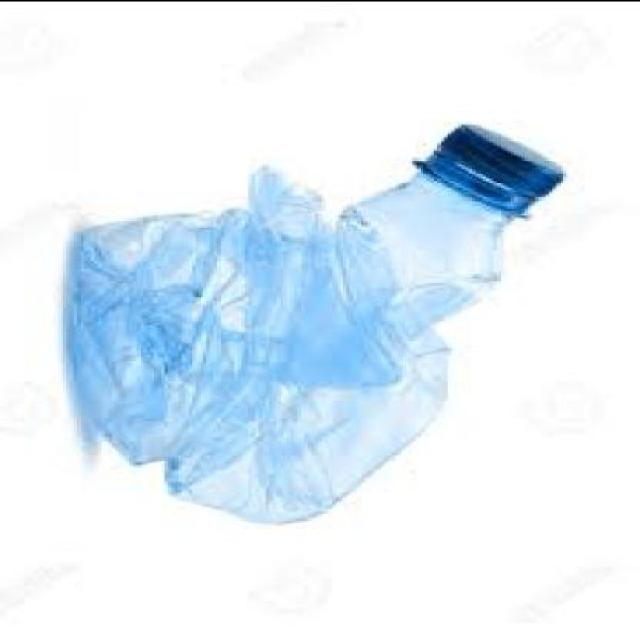PLASTIC: (70, 126, 570, 523), (416, 126, 573, 217)
